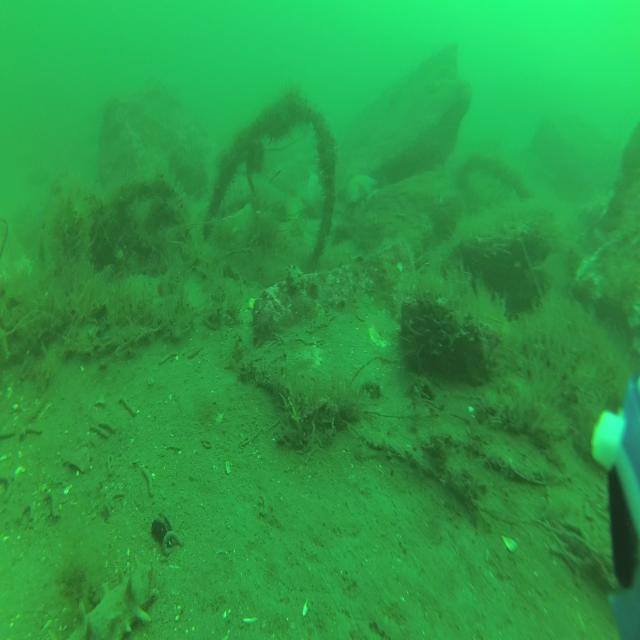holothurian: (62, 553, 159, 640)
